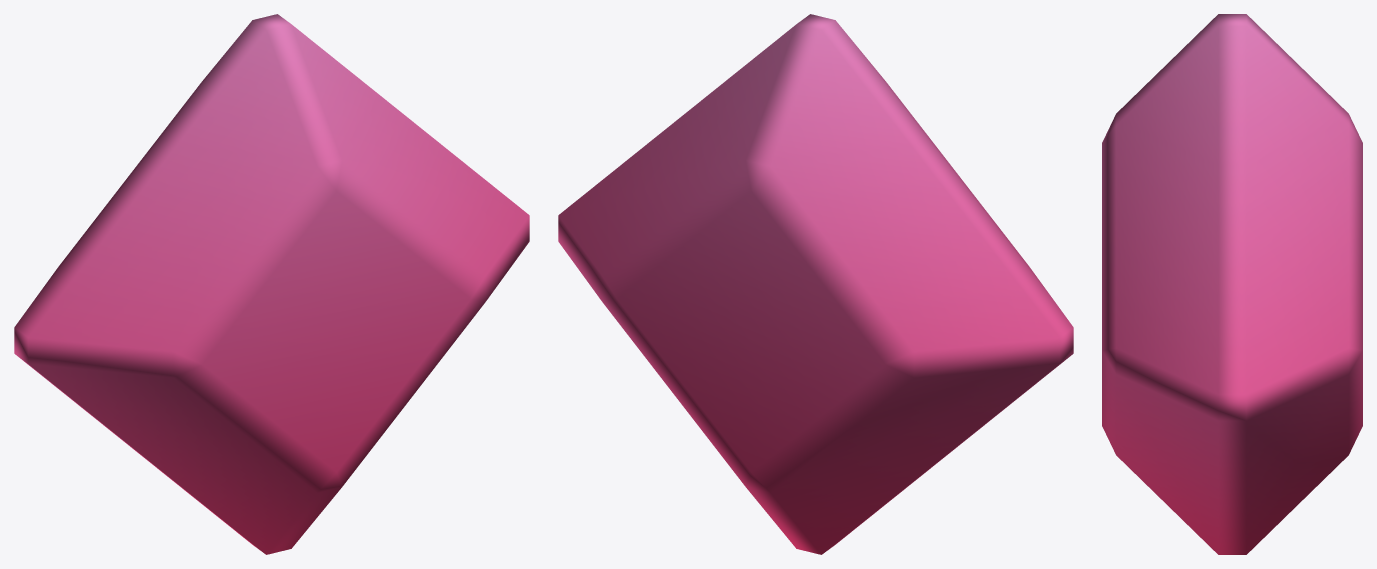
File: Gem_005.glb
3 renders of one model, left to right at view 1: azimuth 30°, elevation 25°; view 2: azimuth 150°, elevation 25°; view 3: azimuth 270°, elevation 25°, orthographic.
Parts seen in each view (by area): view 1: Gem_005; view 2: Gem_005; view 3: Gem_005.
Boxes of the visible parts, box(x1,y1,x2,y2) form: Gem_005: box(14, 14, 529, 554); Gem_005: box(558, 14, 1073, 554); Gem_005: box(1102, 14, 1362, 554).
Size of the model in its own units: 0.3267 by 0.3267 by 0.1461.
1 material, 1 textured.
